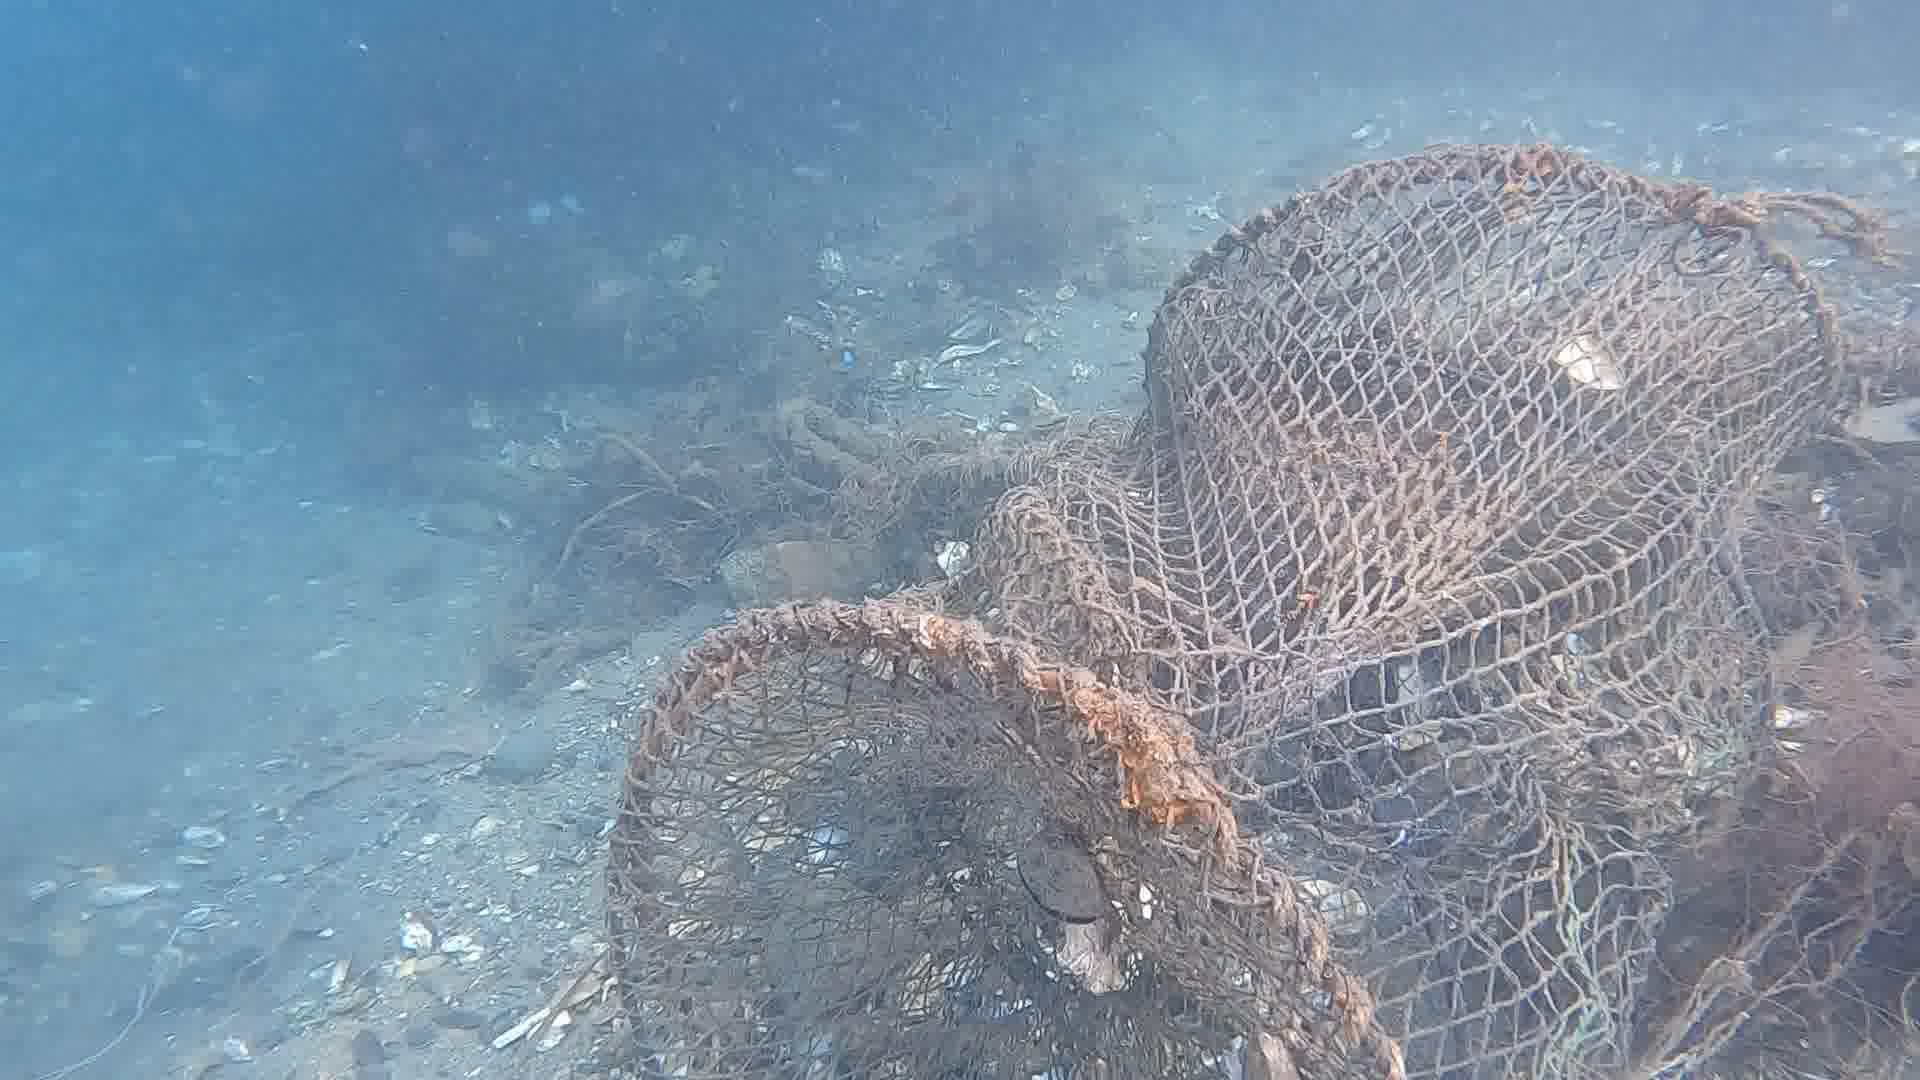spring fish trap: (604, 144, 1837, 1080)
